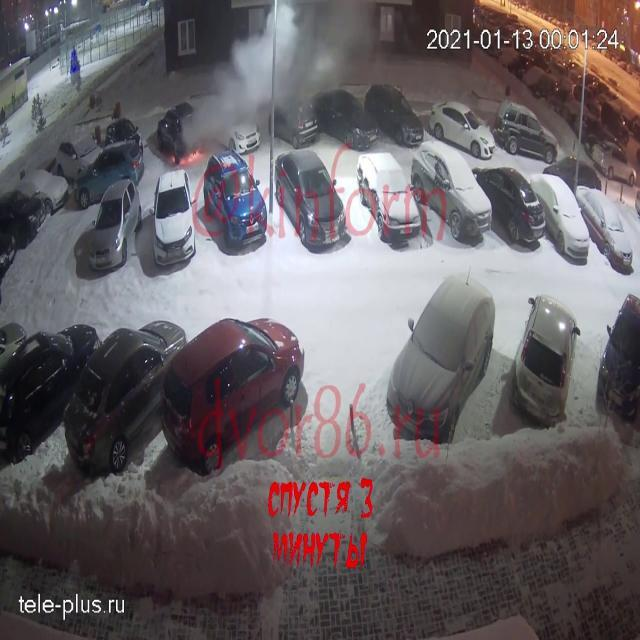Smoke: (178, 0, 364, 150)
